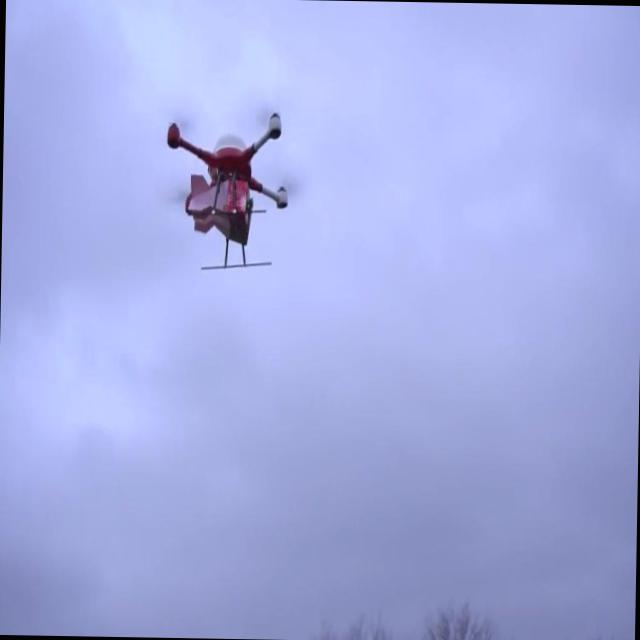drone: (166, 108, 290, 276)
